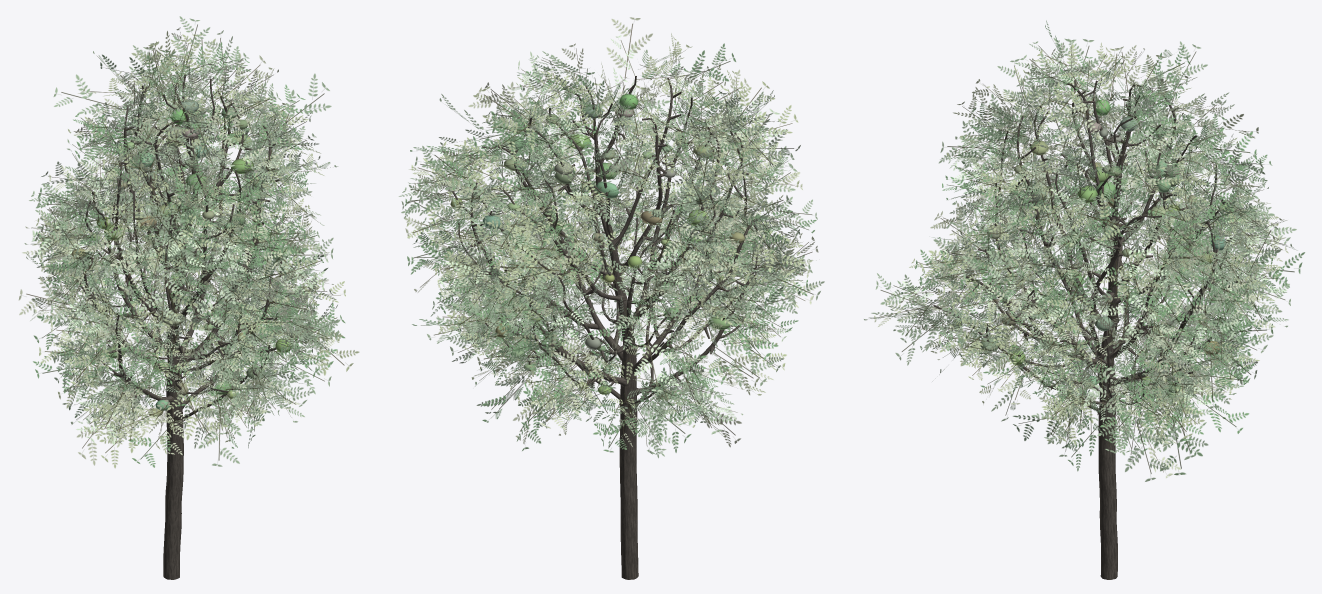
The model's file is tree_55_broadleaf.glb.
The picture shows the model from 3 angles, left to right: view 1: azimuth 30°, elevation 25°; view 2: azimuth 150°, elevation 25°; view 3: azimuth 270°, elevation 25°; orthographic projection. The views are drawn at different scales.
Visible parts, largest first — view 1: tree_55_broadleaf.leaves, tree_55_broadleaf.trunk_branches, tree_55_broadleaf.foliage_volume; view 2: tree_55_broadleaf.leaves, tree_55_broadleaf.trunk_branches, tree_55_broadleaf.foliage_volume; view 3: tree_55_broadleaf.leaves, tree_55_broadleaf.trunk_branches, tree_55_broadleaf.foliage_volume.
Part boxes in pixels (x1,y1,x2,y2): tree_55_broadleaf.leaves: [18, 16, 359, 468]; tree_55_broadleaf.trunk_branches: [77, 74, 291, 579]; tree_55_broadleaf.foliage_volume: [71, 99, 291, 416]; tree_55_broadleaf.leaves: [398, 17, 824, 458]; tree_55_broadleaf.trunk_branches: [452, 76, 762, 579]; tree_55_broadleaf.foliage_volume: [450, 94, 752, 399]; tree_55_broadleaf.leaves: [864, 20, 1304, 481]; tree_55_broadleaf.trunk_branches: [933, 79, 1239, 579]; tree_55_broadleaf.foliage_volume: [952, 99, 1228, 397].
Size of the model in its own units: 8.86 by 13.06 by 9.84.
Materials: 3 (2 with a texture image).
